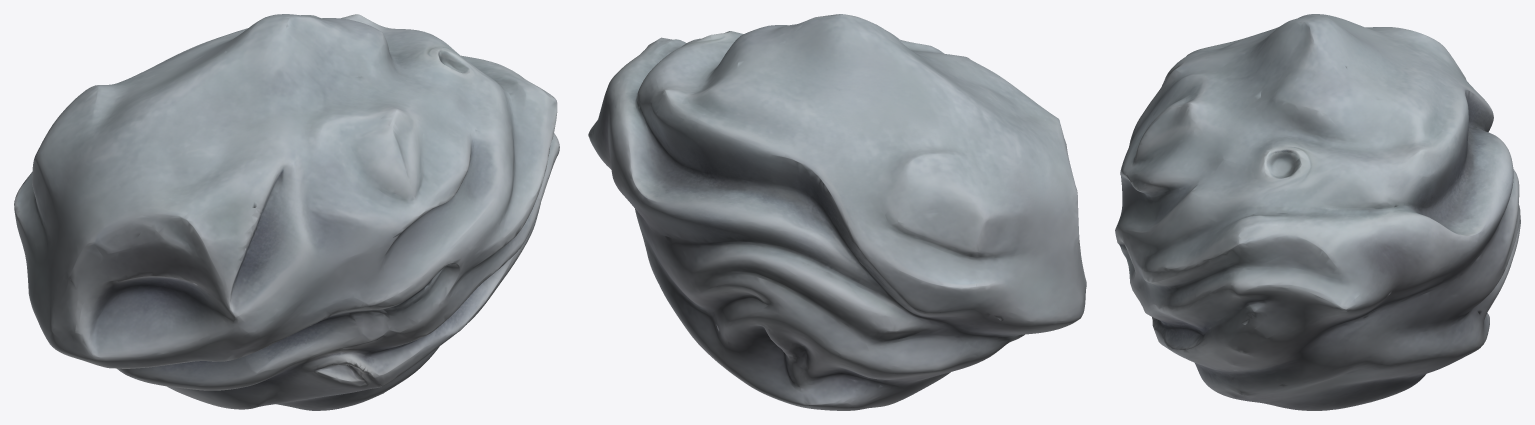
File: rustrock.glb
3 views of the same model, side by side, from view 1: azimuth 30°, elevation 25°; view 2: azimuth 150°, elevation 25°; view 3: azimuth 270°, elevation 25° (orthographic). The views are drawn at different scales.
Parts seen in each view (by area): view 1: material; view 2: material; view 3: material.
Part boxes in pixels (bbox=[...]): material: bbox=[14, 14, 559, 410]; material: bbox=[588, 14, 1086, 410]; material: bbox=[1115, 14, 1520, 410].
Bounding box in the file's own units: 1.15 × 0.8273 × 0.8395.
1 material, 1 textured.
